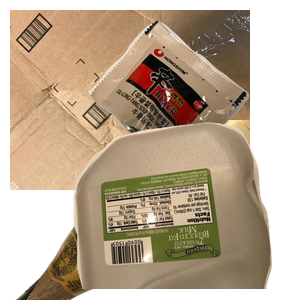cardboard: (10, 10, 250, 190)
glass: (13, 120, 253, 300)
plastic: (71, 120, 300, 300)
trash: (86, 18, 300, 194)
